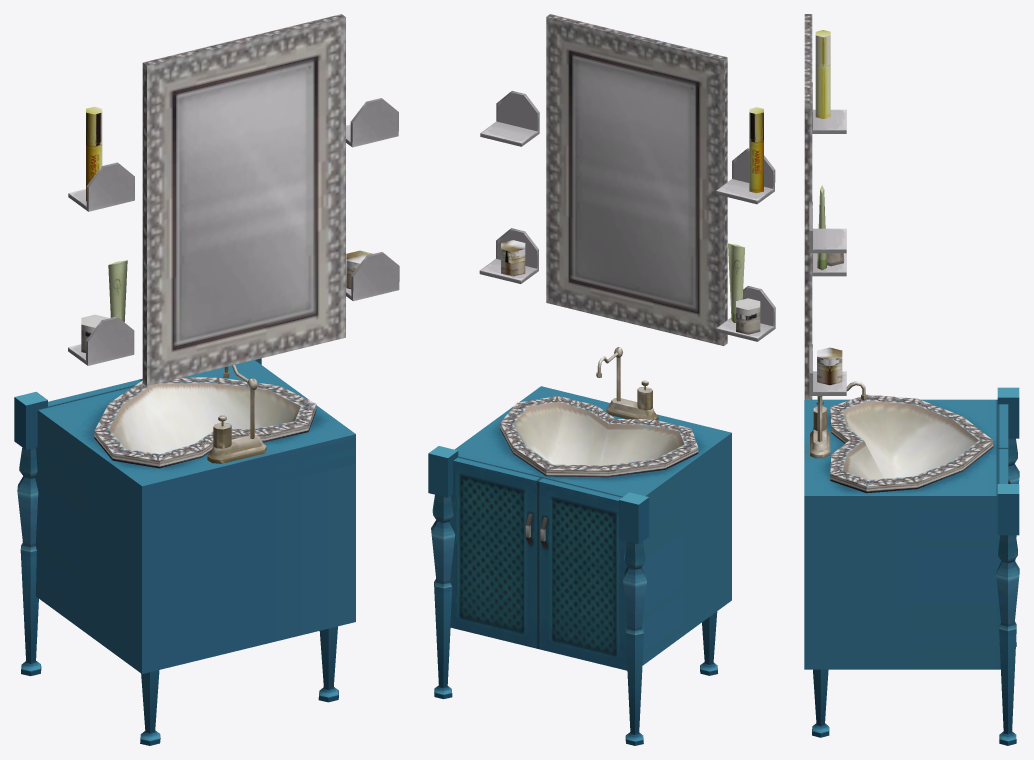
Rendered from furni_0200045_03.FBX.
The picture shows the model from 3 angles, left to right: view 1: azimuth 30°, elevation 25°; view 2: azimuth 150°, elevation 25°; view 3: azimuth 270°, elevation 25°; orthographic projection. The views are drawn at different scales.
Parts seen in each view (by area): view 1: furni_0200045; view 2: furni_0200045; view 3: furni_0200045.
Boxes of the visible parts, x1=… form: furni_0200045: x1=14, y1=14, x2=399, y2=745; furni_0200045: x1=428, y1=14, x2=775, y2=745; furni_0200045: x1=804, y1=14, x2=1019, y2=745.
Size of the model in its own units: 98.03 by 206 by 63.41.
Materials: 1 (1 with a texture image).
